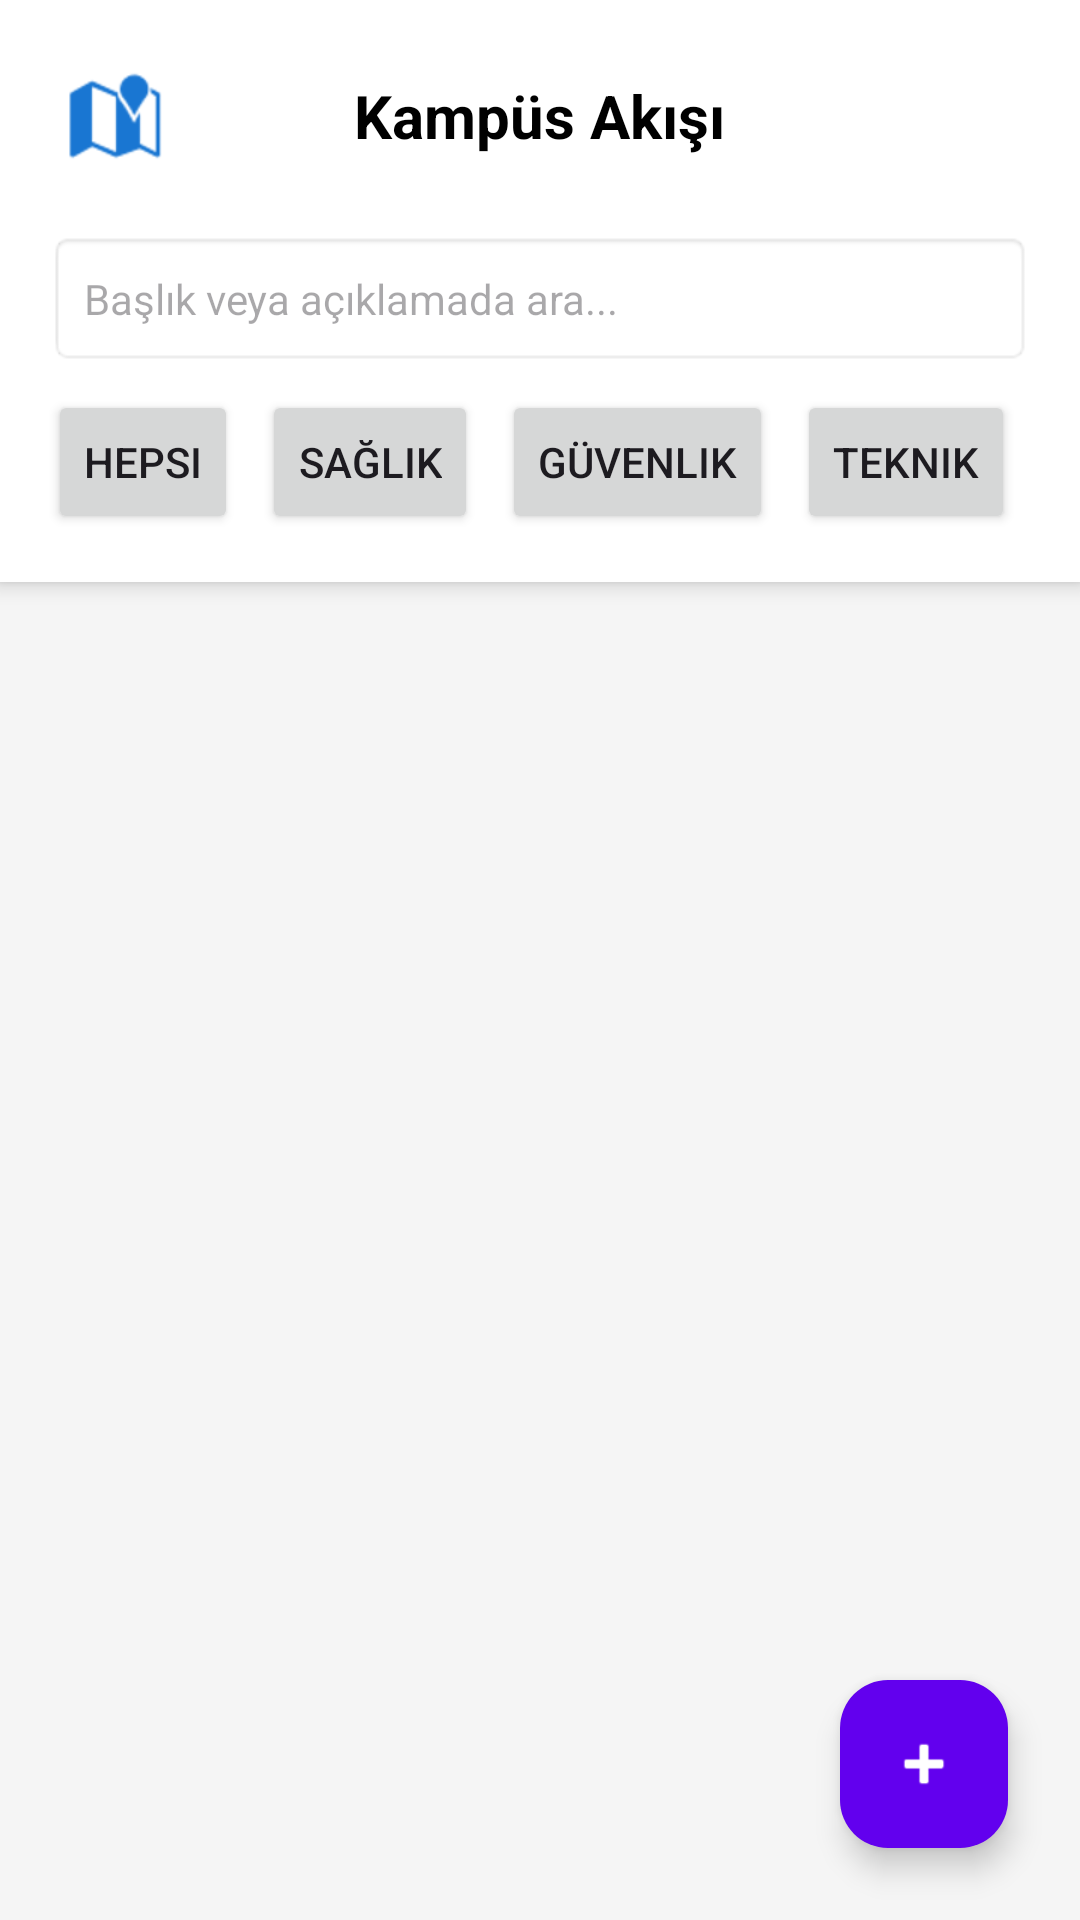

Point at icon controls on the screen. Image size 1080×1920, points as (x=x, y=y).
add: (x=924, y=1764)
map: (x=115, y=116)
